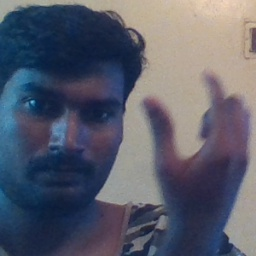U: (143, 64, 248, 207)
